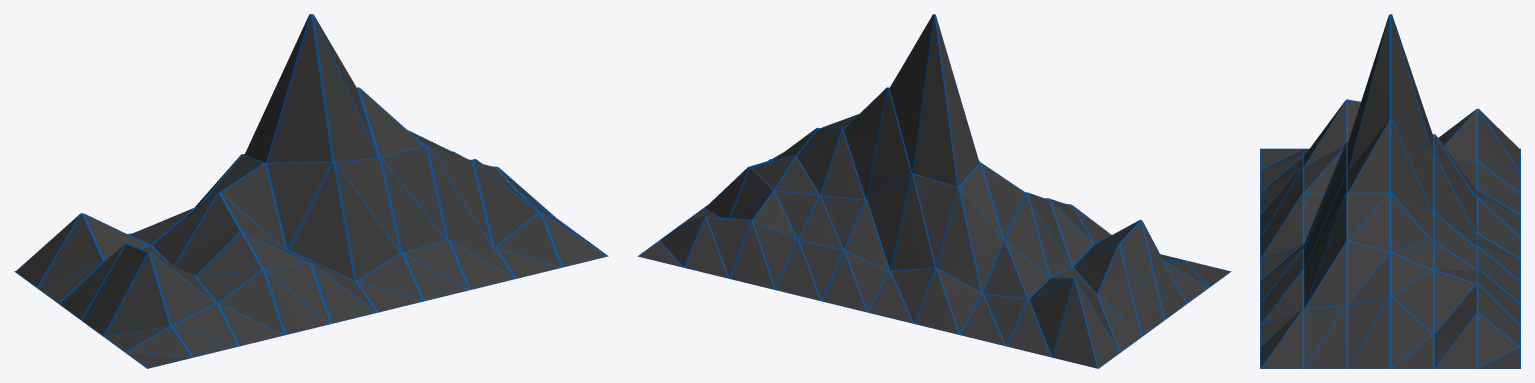
Rendered from mountain3.fbx.
3 renders of one model, left to right at view 1: azimuth 30°, elevation 25°; view 2: azimuth 150°, elevation 25°; view 3: azimuth 270°, elevation 25°, orthographic. The views are drawn at different scales.
Parts seen in each view (by area): view 1: pPlane1; view 2: pPlane1; view 3: pPlane1.
Boxes of the visible parts, bbox=[...] form: pPlane1: bbox=[14, 14, 608, 368]; pPlane1: bbox=[637, 14, 1231, 368]; pPlane1: bbox=[1260, 14, 1520, 368].
Size of the model in its own units: 100 by 51.62 by 50.
